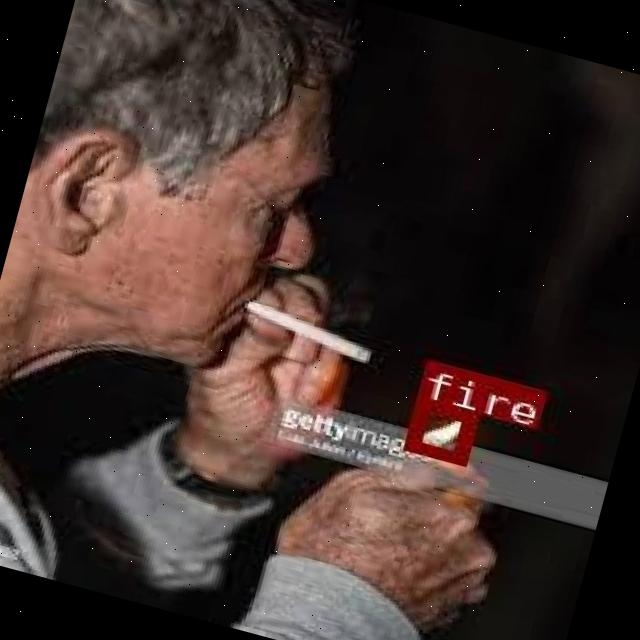fire: (403, 396, 474, 462)
